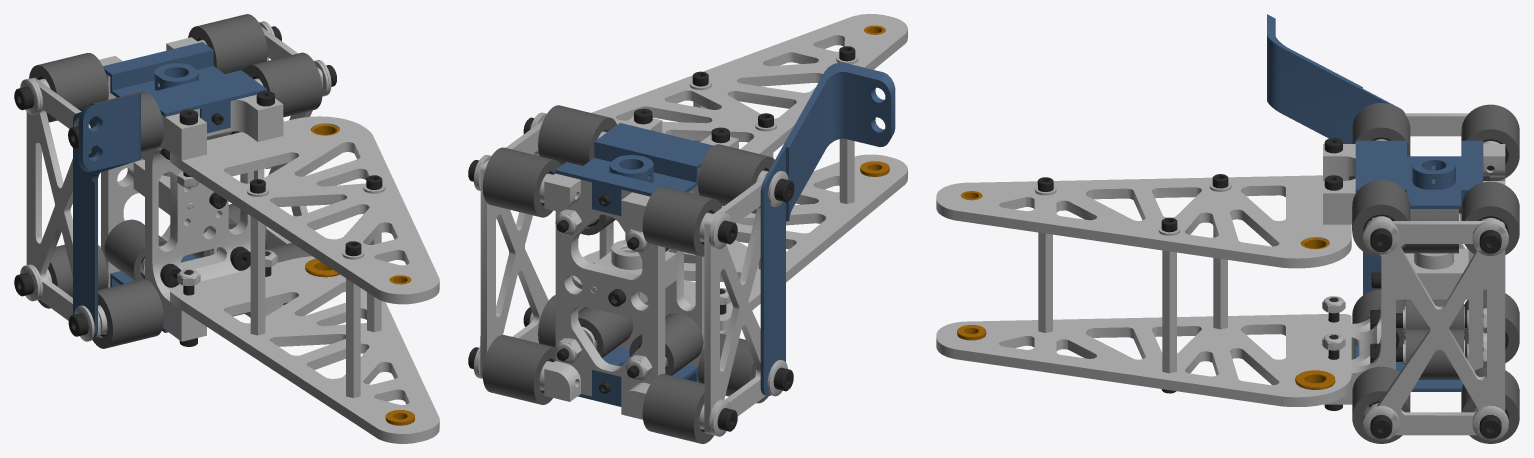
The model's file is arm_a.glb.
3 views of the same model, side by side, from view 1: azimuth 30°, elevation 25°; view 2: azimuth 150°, elevation 25°; view 3: azimuth 270°, elevation 25° (orthographic).
Parts seen in each view (by area): view 1: 6338K411_A;1.001; view 2: 6338K411_A;1.001; view 3: 6338K411_A;1.001.
Part boxes in pixels (bbox=[...]): 6338K411_A;1.001: bbox=[14, 14, 439, 443]; 6338K411_A;1.001: bbox=[468, 14, 907, 443]; 6338K411_A;1.001: bbox=[936, 14, 1519, 443].
Size of the model in its own units: 15.33 by 14.31 by 25.42.
